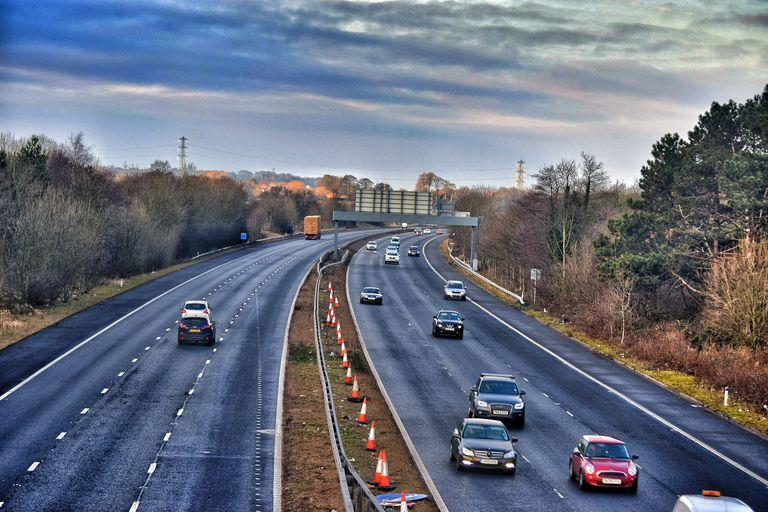car: (568, 432, 641, 494), (448, 418, 521, 478), (467, 372, 527, 426), (176, 316, 218, 345), (431, 309, 465, 338), (180, 300, 213, 320), (302, 214, 323, 241), (443, 279, 468, 301), (359, 286, 384, 305), (406, 243, 422, 260), (383, 251, 401, 265), (364, 240, 378, 252), (385, 245, 399, 255), (390, 235, 401, 246), (413, 226, 423, 233), (435, 229, 443, 236), (424, 229, 432, 235)
roadcone: (370, 449, 397, 492), (393, 486, 411, 512), (365, 421, 379, 453), (357, 395, 370, 424), (350, 375, 363, 401), (344, 363, 354, 385), (338, 339, 348, 357), (342, 352, 351, 368), (335, 320, 344, 334), (333, 296, 342, 309), (337, 331, 345, 344), (325, 314, 332, 327), (329, 293, 335, 305), (331, 316, 337, 327), (328, 280, 333, 292), (328, 302, 334, 312), (330, 309, 335, 319)
streetPlate: (330, 212, 342, 262), (176, 134, 189, 170), (513, 159, 527, 190)
